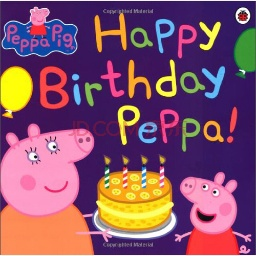Peppa: (174, 171, 252, 255)
